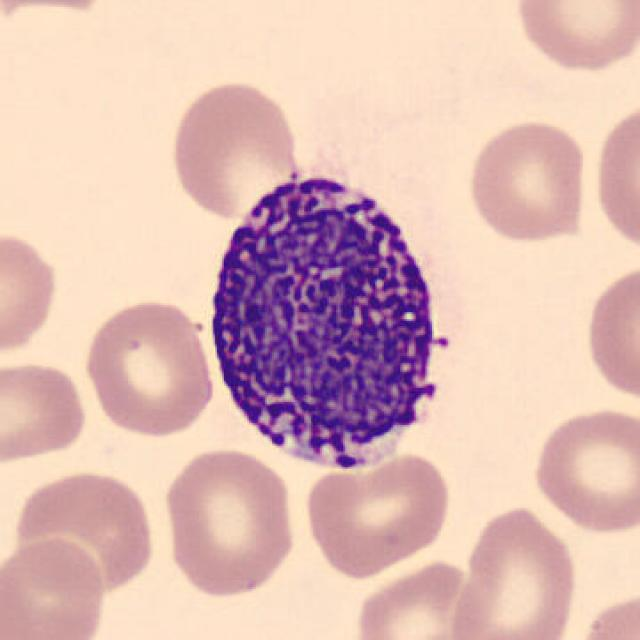Basophil: (192, 155, 468, 487)
RBC: (158, 444, 300, 602), (80, 294, 219, 441), (9, 466, 162, 598), (301, 450, 455, 580), (165, 76, 302, 222), (447, 500, 581, 640), (462, 115, 592, 246), (528, 402, 638, 538), (350, 555, 487, 640), (0, 532, 108, 639), (0, 356, 91, 469), (508, 0, 638, 76), (581, 259, 640, 409), (0, 224, 62, 363), (590, 97, 638, 259), (569, 587, 640, 640), (0, 0, 122, 19)
